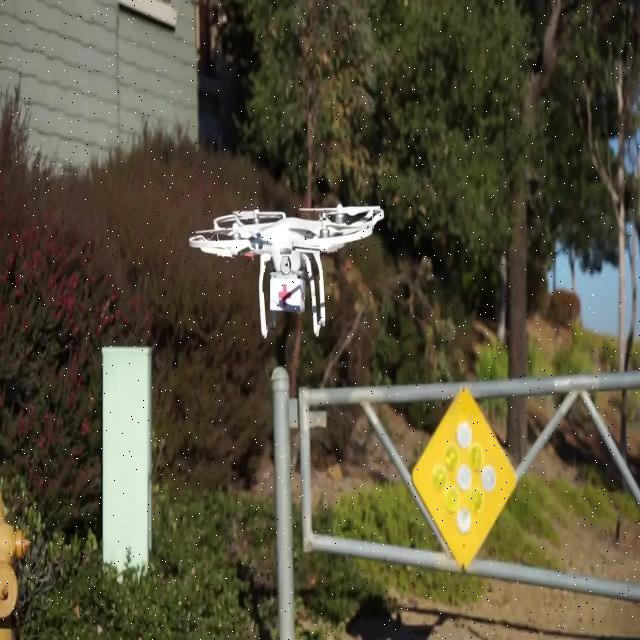UAV: (188, 202, 384, 340)
